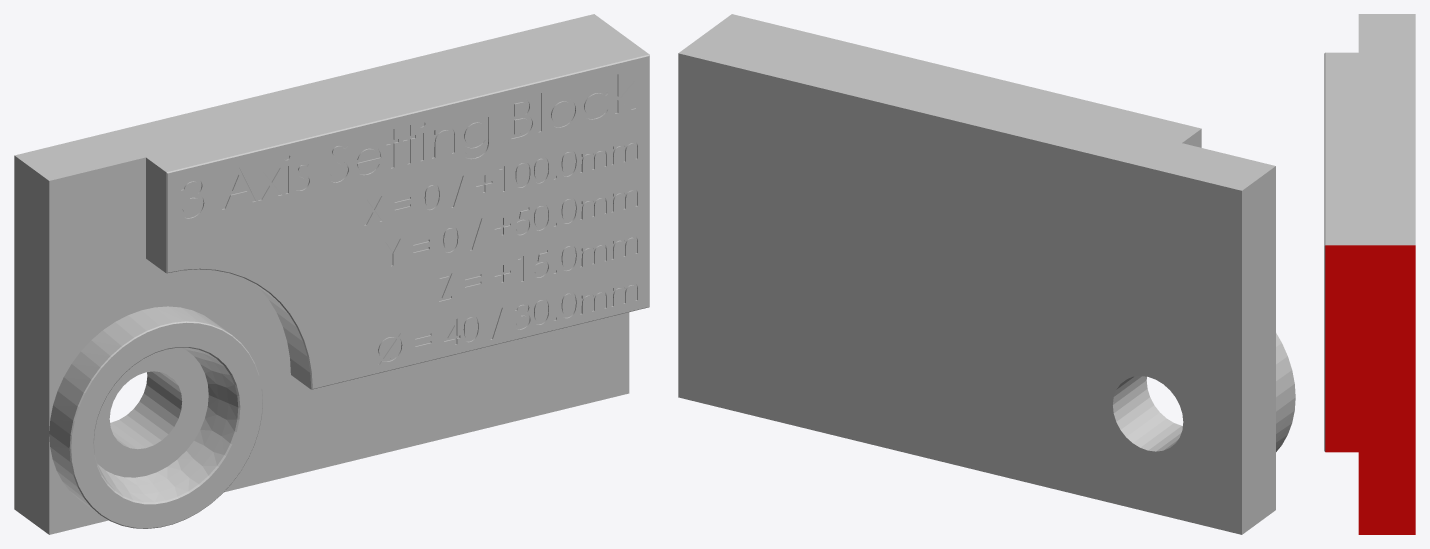
The model's file is TESTE_M3_SF_stp_767.obj.
The picture shows the model from 3 angles, left to right: view 1: azimuth 30°, elevation 25°; view 2: azimuth 150°, elevation 25°; view 3: azimuth 270°, elevation 25°; orthographic projection. The views are drawn at different scales.
Parts seen in each view (by area): view 1: Object1; view 2: Object1; view 3: Object1.
Boxes of the visible parts, left/top/right/bottom form: Object1: left=14, top=14, right=649, bottom=534; Object1: left=678, top=14, right=1295, bottom=534; Object1: left=1324, top=14, right=1415, bottom=534.
Size of the model in its own units: 120 by 70 by 20.
